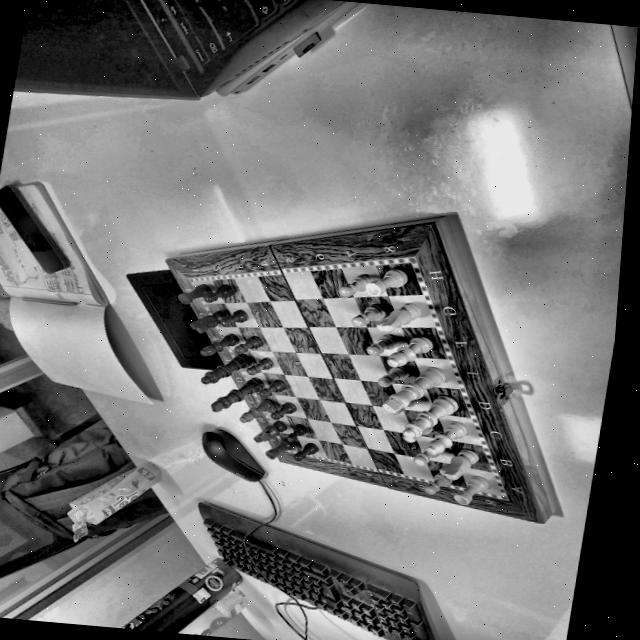black-bishop: (196, 331, 240, 358), (238, 397, 275, 426)
black-king: (208, 376, 262, 416)
black-knight: (188, 310, 228, 336), (250, 421, 288, 444)
black-pawn: (229, 332, 265, 357), (201, 284, 239, 304), (254, 378, 288, 400), (217, 308, 249, 328), (243, 356, 275, 376), (293, 442, 322, 462), (284, 422, 307, 445), (270, 401, 296, 421)
black-queen: (195, 352, 249, 388)
black-rook: (174, 282, 212, 306), (260, 438, 295, 460)
white-bishop: (422, 417, 473, 460), (384, 333, 433, 371)
white-king: (380, 366, 449, 418)
white-knight: (434, 445, 484, 484), (376, 300, 424, 334)
white-pawn: (348, 302, 388, 332), (378, 398, 417, 426), (361, 332, 399, 359), (374, 364, 410, 391), (396, 424, 432, 450), (337, 273, 373, 298), (421, 473, 452, 498), (409, 448, 443, 469)
white-queen: (401, 393, 458, 441)
white-rook: (362, 263, 412, 300), (449, 476, 493, 507)
